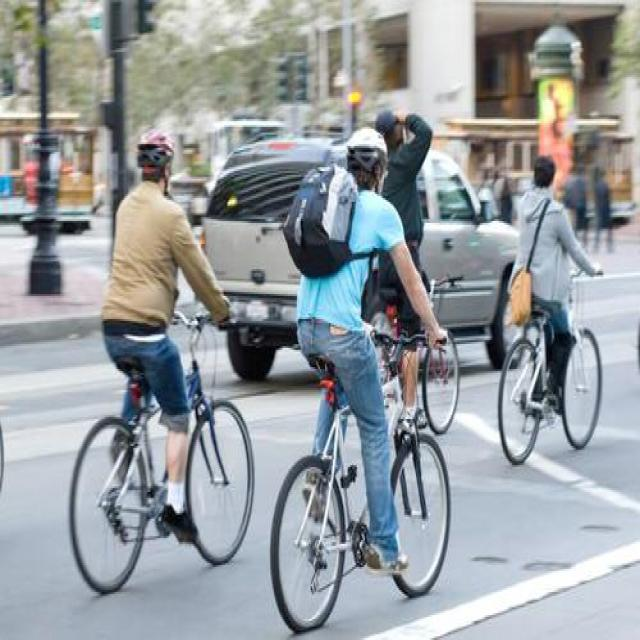bikerider: (252, 121, 478, 638), (58, 112, 254, 588), (337, 100, 466, 440), (497, 146, 613, 456)
